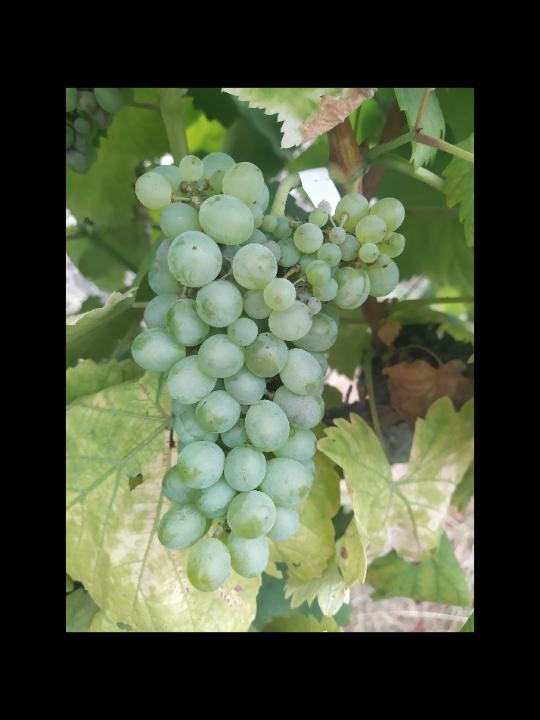grape: (129, 149, 408, 595)
